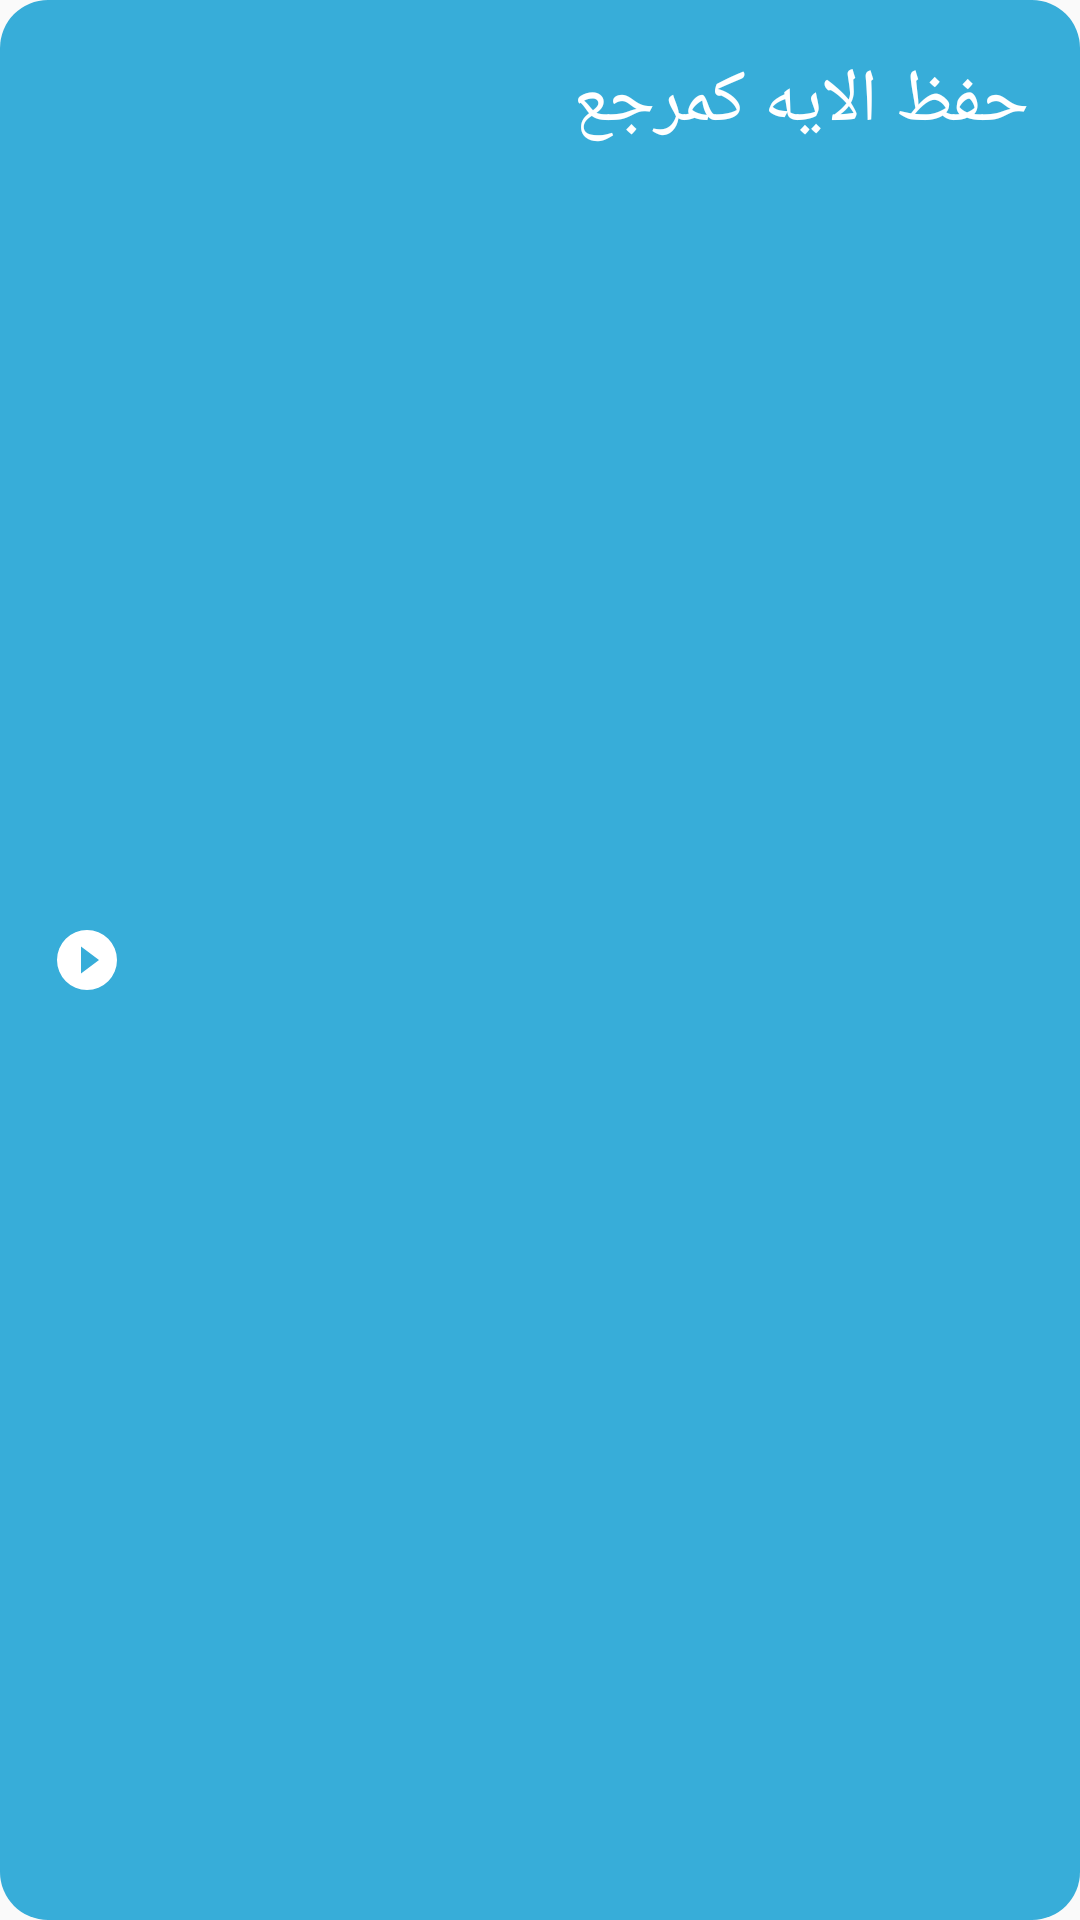

Icons on this 1080x1920 Android screen, each with the point to tap as (x,y):
listening: (87,960)
